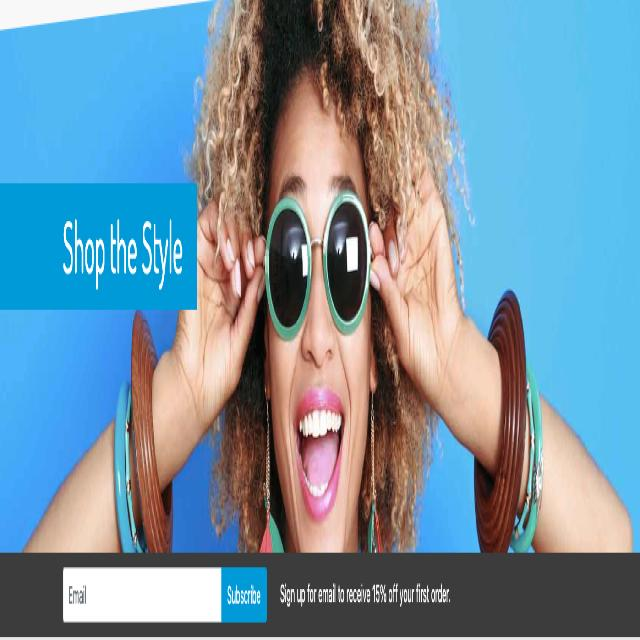EmailSignup: (61, 562, 268, 624)
